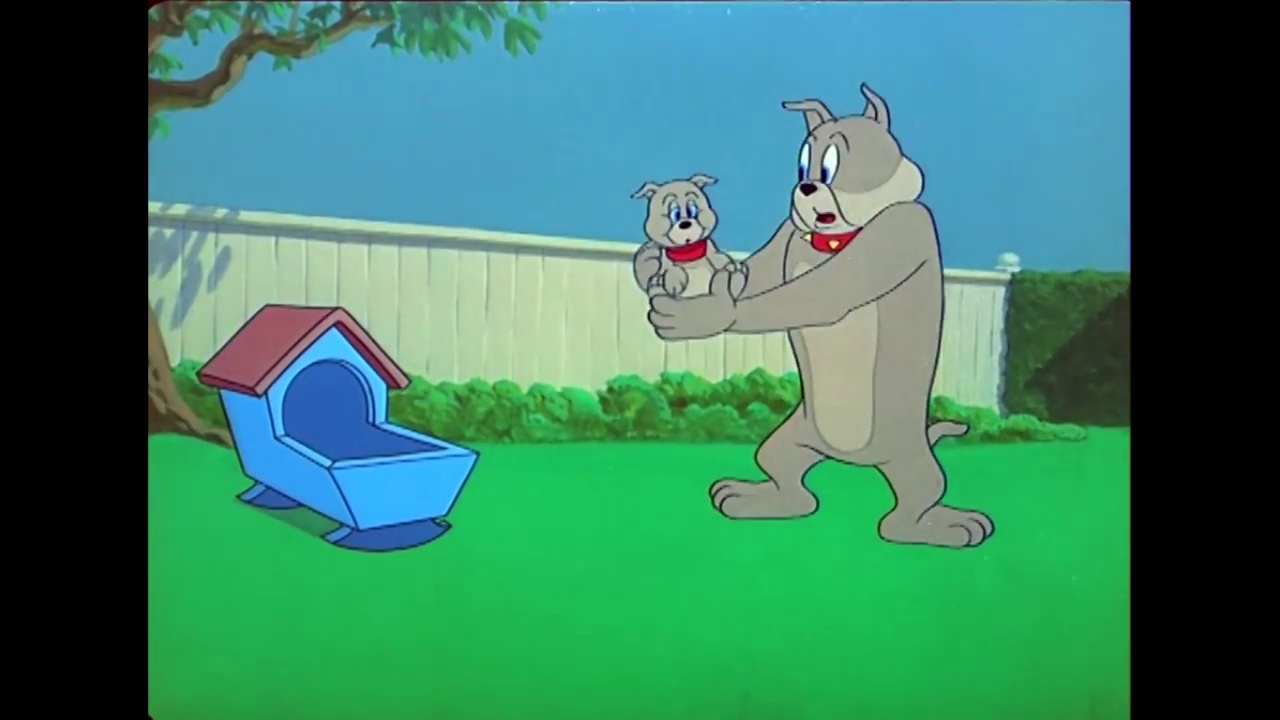spike: (774, 83, 929, 257)
